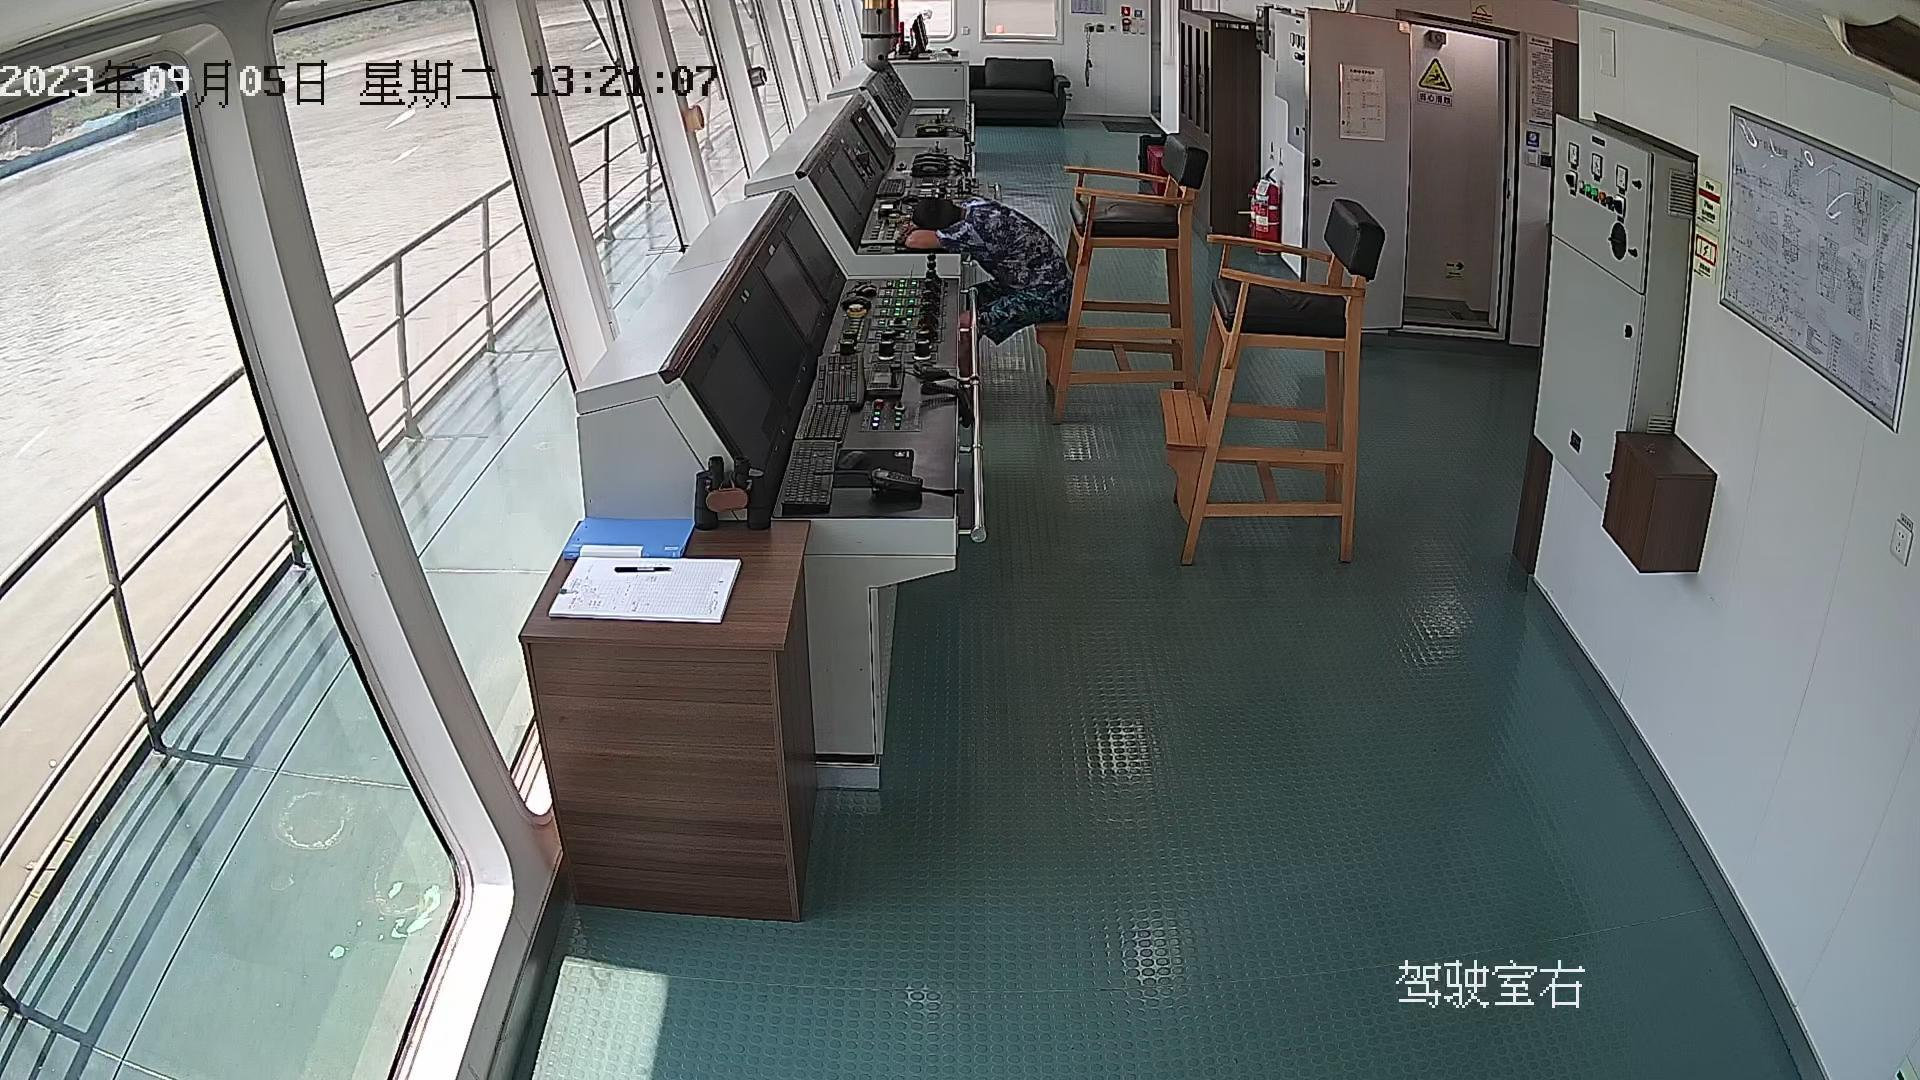sleep: (905, 193, 1073, 344)
